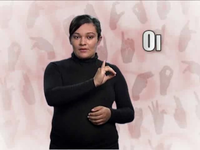oi: (94, 56, 119, 86)
